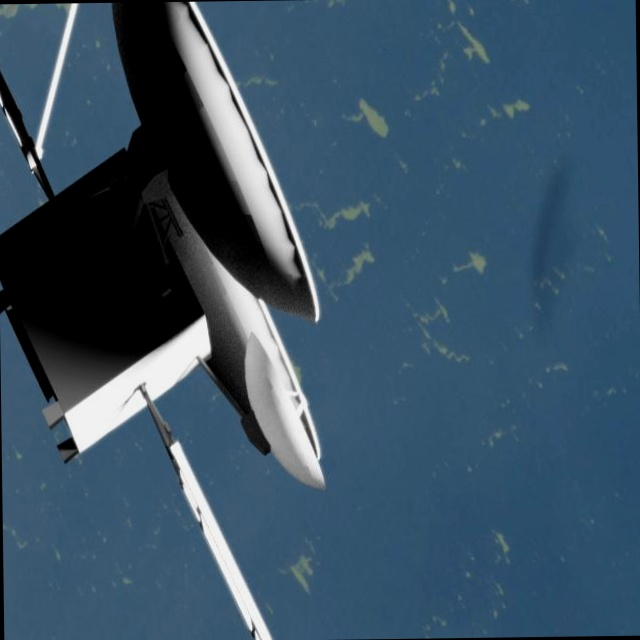satellite: (0, 0, 441, 640)
